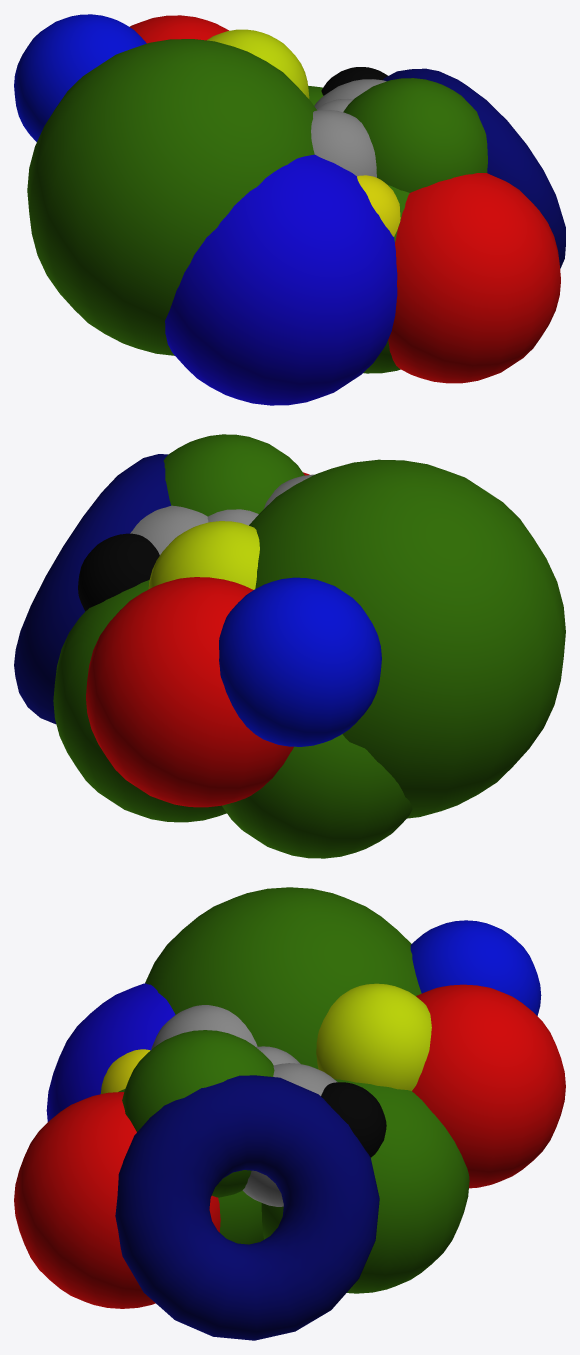
The model's file is startPoint.dae.
3 renders of one model, top to bottom at view 1: azimuth 30°, elevation 25°; view 2: azimuth 150°, elevation 25°; view 3: azimuth 270°, elevation 25°, orthographic. The views are drawn at different scales.
Visible parts, largest first — view 1: pSphere1, pSphere10, pSphere13, pSphere15, pSphere14, pTorus1, pSphere11, pSphere7, pSphere2, pSphere3, pSphere8, pSphere16 (+1 smaller); view 2: pSphere1, pSphere2, pSphere14, pSphere6, pTorus1, pSphere4, pSphere15, pSphere7, pSphere12, pSphere16, pSphere9; view 3: pTorus1, pSphere1, pSphere2, pSphere13, pSphere4, pSphere7, pSphere15, pSphere10, pSphere14, pSphere12, pSphere11, pSphere16 (+2 smaller).
Boxes of the visible parts, x1,y1,x2,y2 form: pSphere1: [27, 39, 316, 355]; pSphere10: [165, 154, 397, 405]; pSphere13: [388, 173, 560, 383]; pSphere15: [343, 78, 487, 192]; pSphere14: [14, 14, 146, 141]; pTorus1: [383, 68, 565, 268]; pSphere11: [311, 110, 376, 177]; pSphere7: [207, 29, 309, 98]; pSphere2: [130, 15, 228, 43]; pSphere3: [357, 175, 400, 236]; pSphere8: [363, 185, 409, 373]; pSphere16: [314, 79, 386, 108]; pSphere1: [249, 459, 565, 818]; pSphere2: [86, 577, 293, 807]; pSphere14: [219, 577, 381, 746]; pSphere6: [222, 734, 412, 858]; pTorus1: [14, 454, 170, 724]; pSphere4: [53, 580, 226, 822]; pSphere15: [163, 434, 304, 516]; pSphere7: [148, 521, 259, 589]; pSphere12: [78, 533, 159, 611]; pSphere16: [130, 505, 208, 554]; pSphere9: [207, 509, 258, 525]; pTorus1: [115, 1075, 379, 1340]; pSphere1: [145, 887, 421, 1069]; pSphere2: [412, 984, 565, 1188]; pSphere13: [14, 1092, 220, 1308]; pSphere4: [261, 1079, 469, 1293]; pSphere7: [316, 983, 431, 1090]; pSphere15: [122, 1030, 274, 1197]; pSphere10: [46, 983, 175, 1121]; pSphere14: [410, 920, 541, 1015]; pSphere12: [321, 1082, 386, 1157]; pSphere11: [151, 1005, 257, 1049]; pSphere16: [242, 1063, 337, 1206].
Bounding box in the file's own units: 21.23 × 13.47 × 21.75.
